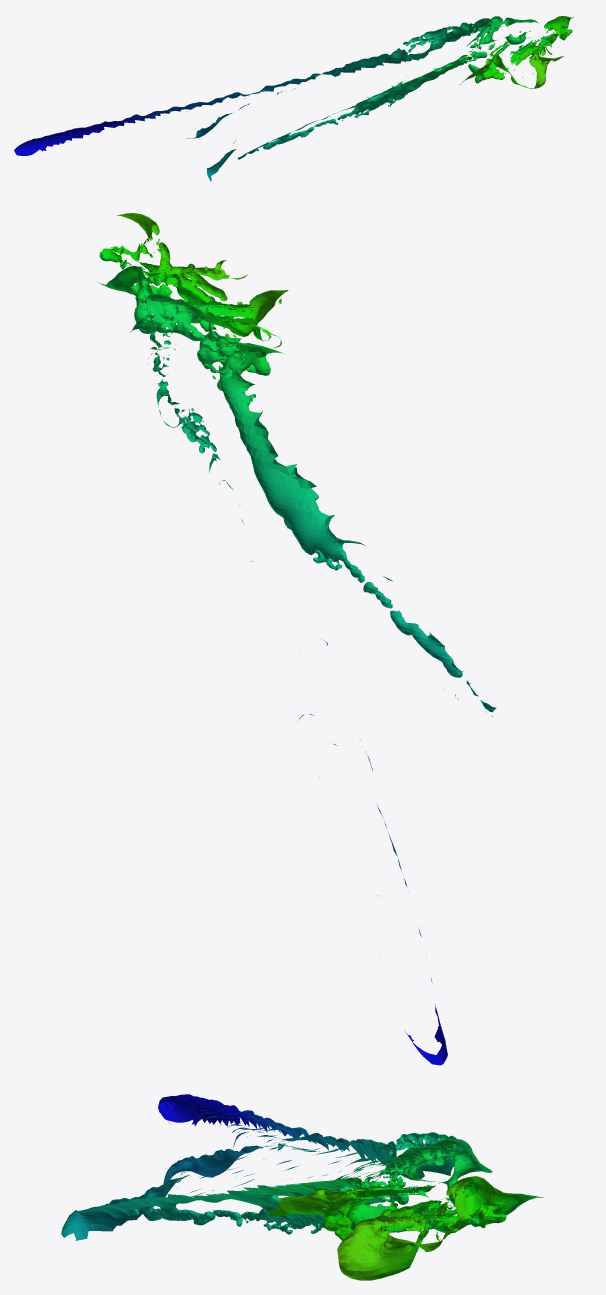
3 renders of one model, top to bottom at view 1: azimuth 30°, elevation 25°; view 2: azimuth 150°, elevation 25°; view 3: azimuth 330°, elevation 25°, orthographic. The views are drawn at different scales.
Visible parts, largest first — view 1: geometry_0; view 2: geometry_0; view 3: geometry_0.
Boxes of the visible parts, x1,y1,x2,y2 form: geometry_0: (14,16,573,181); geometry_0: (96,213,496,1065); geometry_0: (61,1094,543,1280).
Size of the model in its own units: 15.73 by 7.75 by 15.74.
